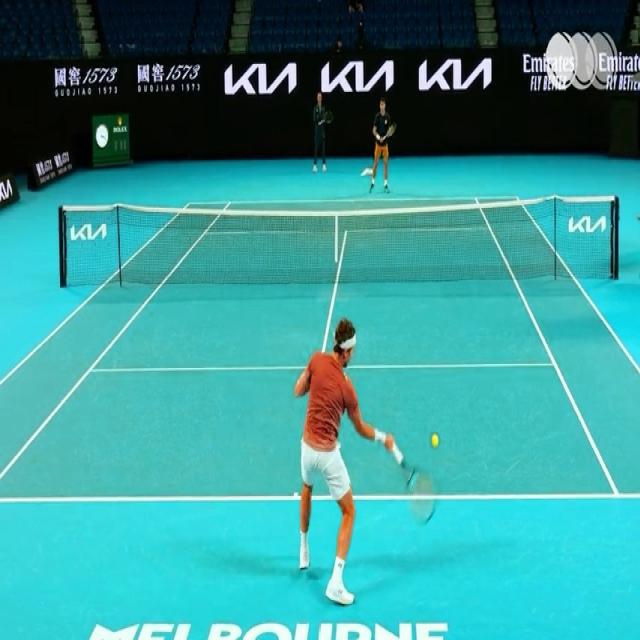forehand-stroke: (290, 321, 435, 609)
